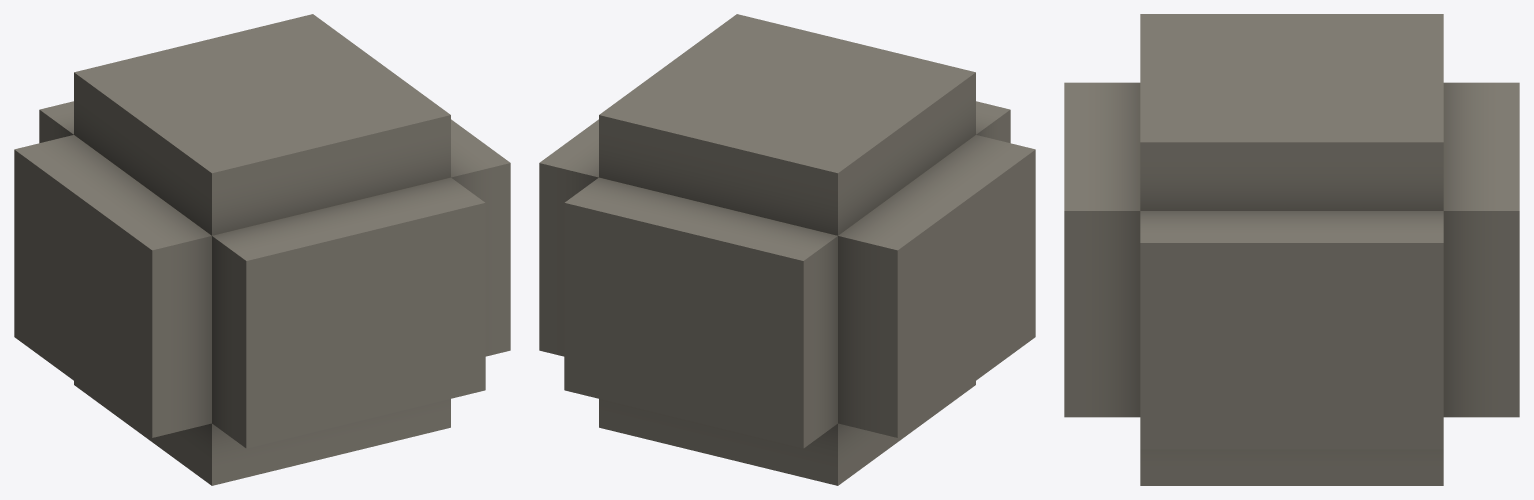
The model's file is p_stone.glb.
3 views of the same model, side by side, from view 1: azimuth 30°, elevation 25°; view 2: azimuth 150°, elevation 25°; view 3: azimuth 270°, elevation 25° (orthographic). The views are drawn at different scales.
Parts seen in each view (by area): view 1: p_stone_body; view 2: p_stone_body; view 3: p_stone_body.
Boxes of the visible parts, x1=… form: p_stone_body: x1=14, y1=14, x2=510, y2=485; p_stone_body: x1=539, y1=14, x2=1035, y2=485; p_stone_body: x1=1064, y1=14, x2=1519, y2=485.
Size of the model in its own units: 0.375 by 0.3125 by 0.375.
1 material, 1 textured.
